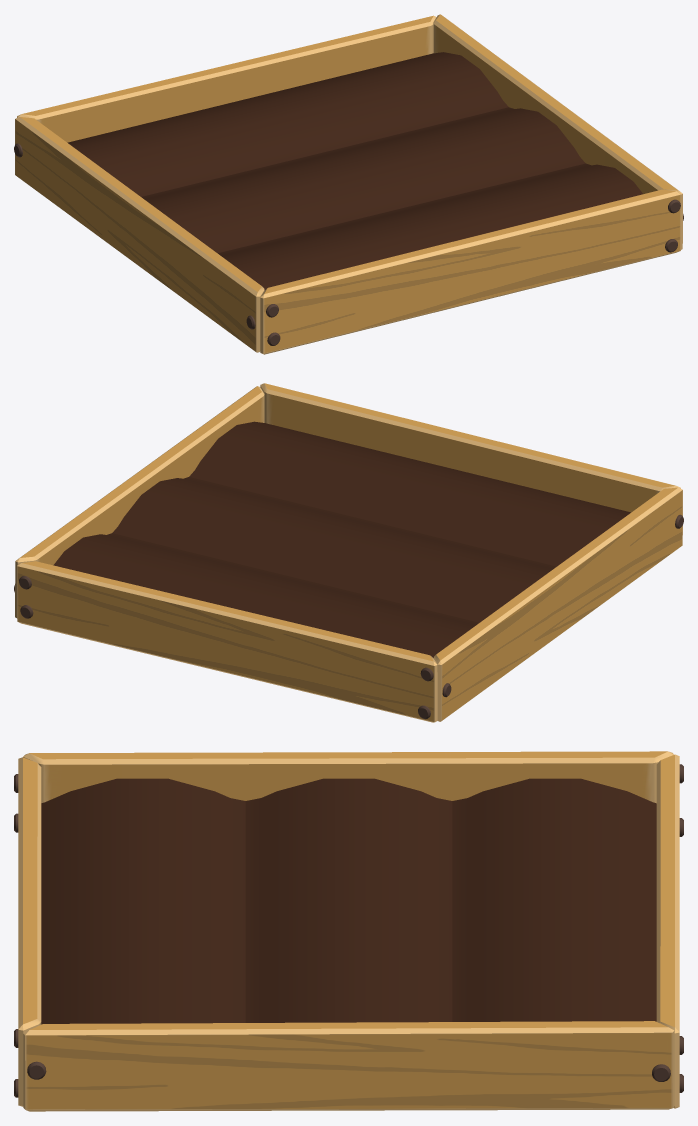
File: NewPlotModel.fbx
The picture shows the model from 3 angles, top to bottom: view 1: azimuth 30°, elevation 25°; view 2: azimuth 150°, elevation 25°; view 3: azimuth 270°, elevation 25°; orthographic projection. The views are drawn at different scales.
Visible parts, largest first — view 1: planterBox; view 2: planterBox; view 3: planterBox.
Part boxes in pixels (x1=…): planterBox: x1=14, y1=14, x2=683, y2=354; planterBox: x1=14, y1=383, x2=683, y2=722; planterBox: x1=14, y1=751, x2=683, y2=1111.
Bounding box in the file's own units: 1.01 × 0.1409 × 1.01.
